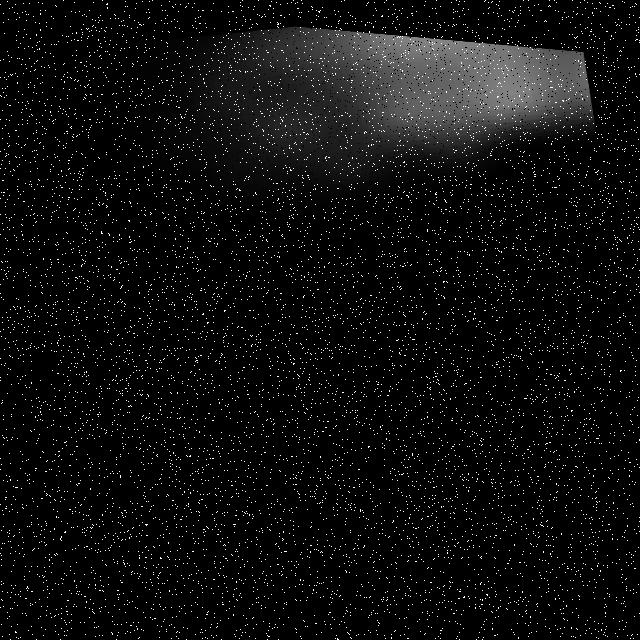person: (158, 12, 613, 268)
